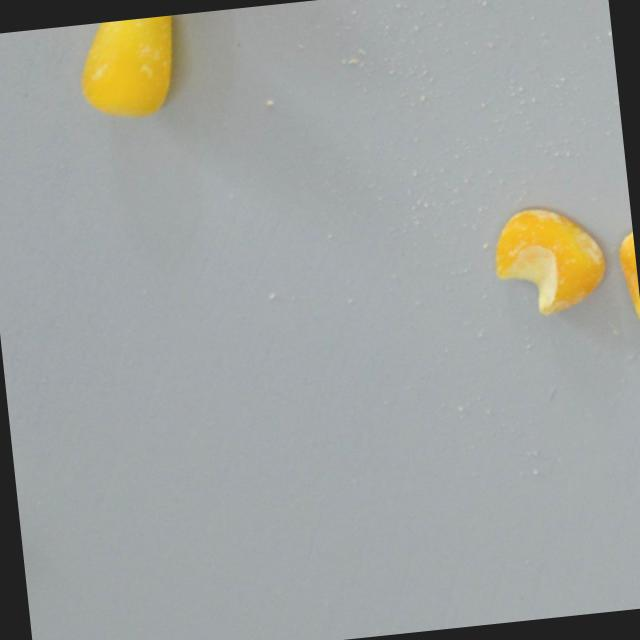no_canjicado: (73, 14, 184, 120)
pelicula: (487, 200, 611, 319), (614, 220, 640, 334)
